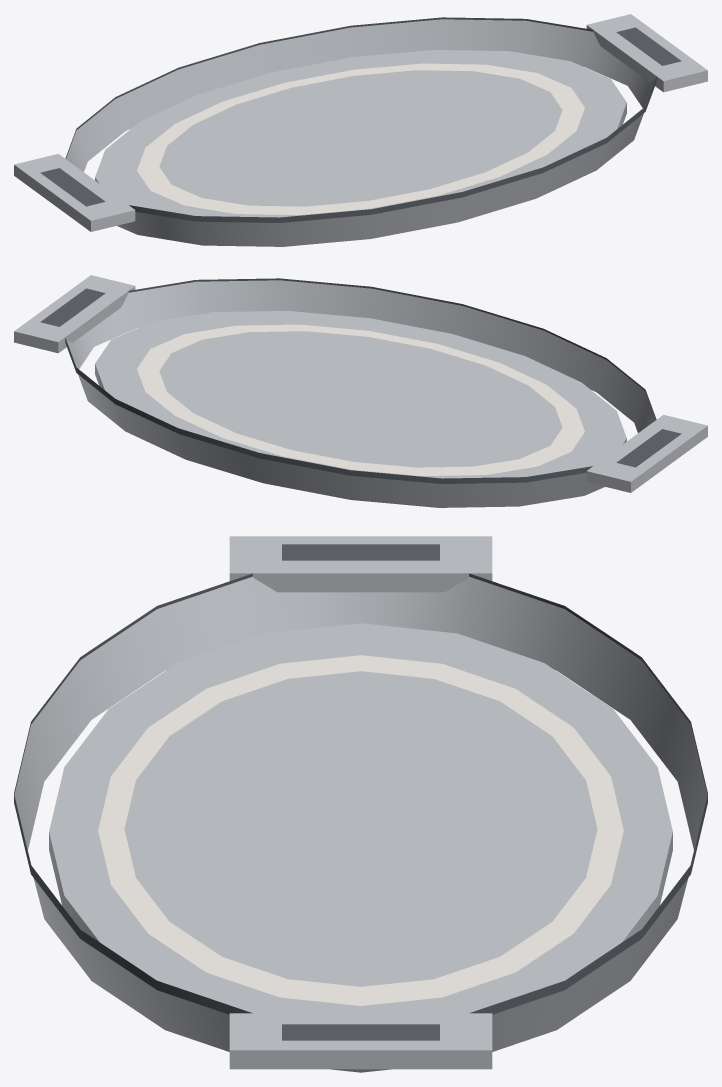
File: tray_wide.glb
3 views of the same model, one above another, from view 1: azimuth 30°, elevation 25°; view 2: azimuth 150°, elevation 25°; view 3: azimuth 270°, elevation 25° (orthographic). The views are drawn at different scales.
Parts seen in each view (by area): view 1: tray_wide; view 2: tray_wide; view 3: tray_wide.
Part boxes in pixels (left/top/right/bottom): tray_wide: left=14, top=14, right=707, bottom=246; tray_wide: left=14, top=275, right=707, bottom=507; tray_wide: left=14, top=536, right=707, bottom=1072.
Bounding box in the file's own units: 0.694 × 0.0365 × 0.396.
1 material, 1 textured.
